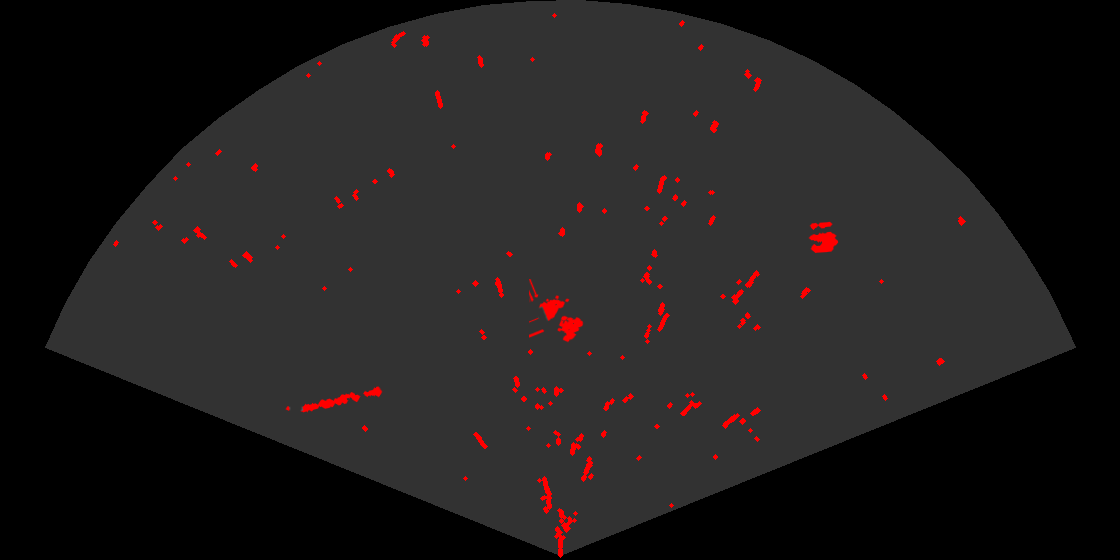ball: (807, 220, 840, 255)
cage: (529, 279, 585, 344)
chain: (284, 385, 385, 414)
